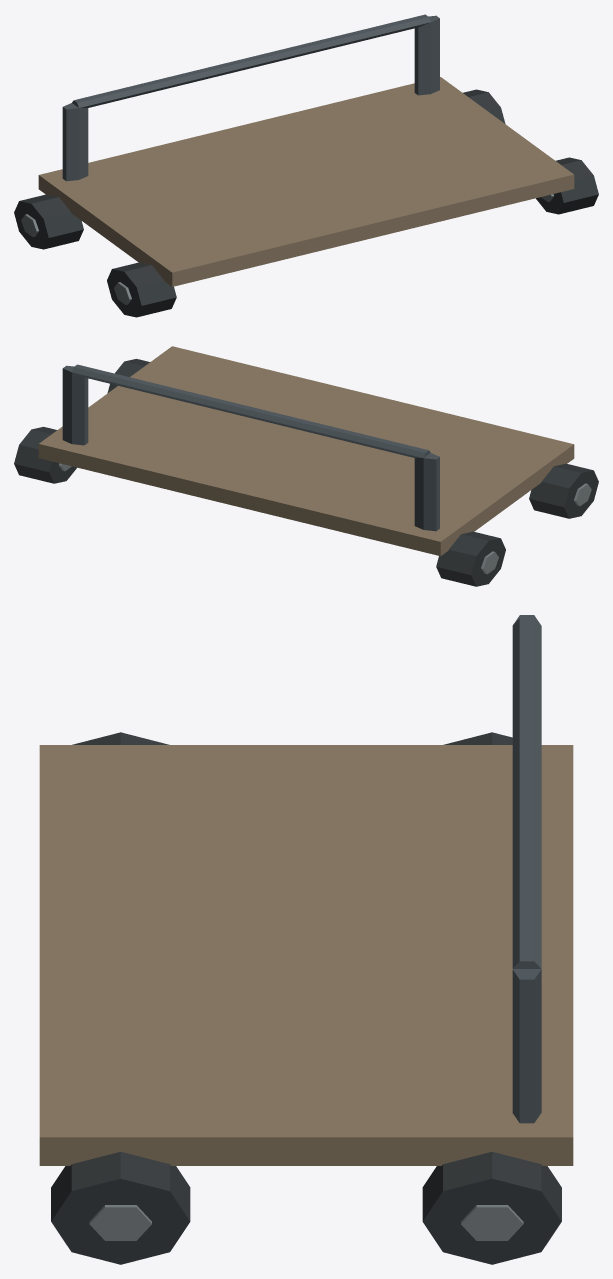
Rendered from platform_cart.glb.
3 renders of one model, top to bottom at view 1: azimuth 30°, elevation 25°; view 2: azimuth 150°, elevation 25°; view 3: azimuth 270°, elevation 25°, orthographic. The views are drawn at different scales.
Visible parts, largest first — view 1: platform_cart; view 2: platform_cart; view 3: platform_cart.
Part boxes in pixels (left/top/right/bottom): platform_cart: left=14, top=14, right=598, bottom=317; platform_cart: left=14, top=346, right=598, bottom=586; platform_cart: left=39, top=615, right=573, bottom=1264.
Bounding box in the file's own units: 1.92 × 0.5 × 0.96.
